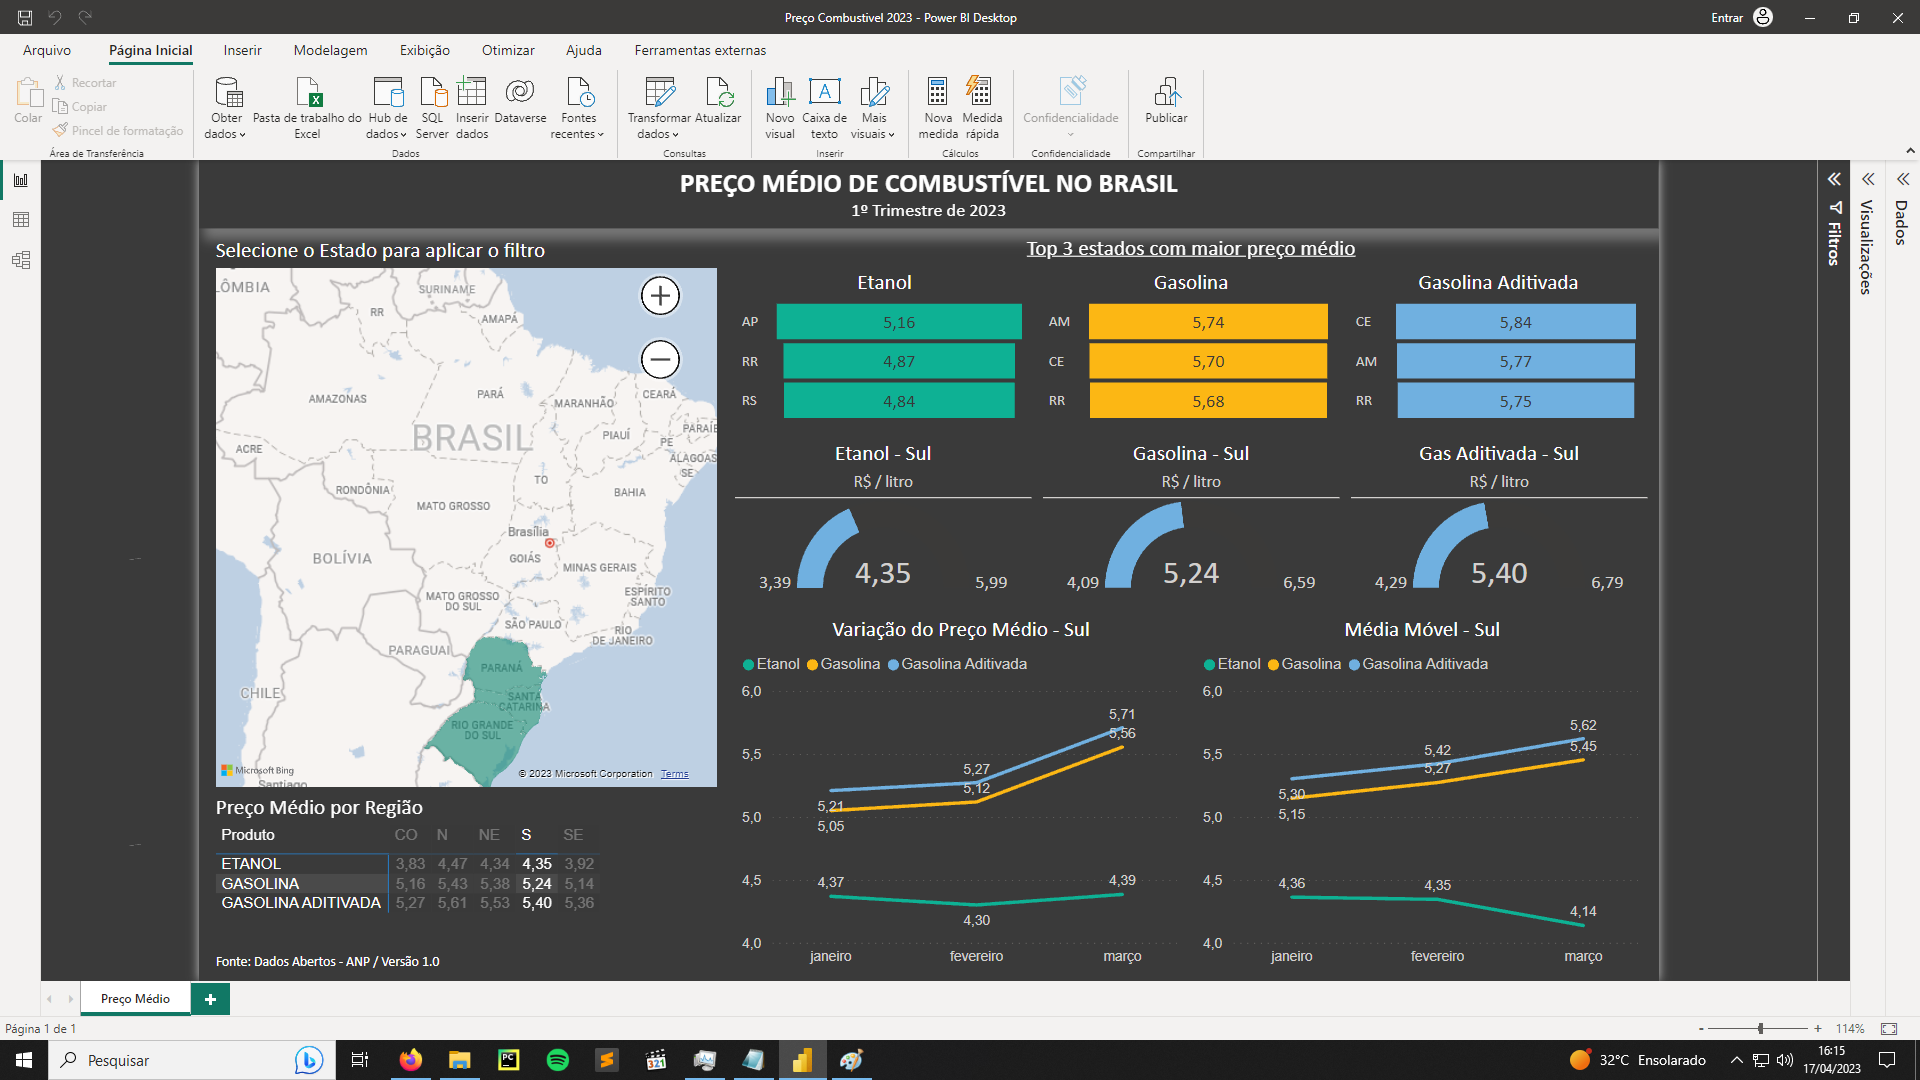

The page's visual inventory and layout, read from the dashboard file:
{"tool":"powerbi","page":{"name":"Preço Médio","canvas":[1280,720],"ordinal":0},"visuals":[{"type":"lineChart","fields":{"Category":["preco_tratado.Data_Coleta.Variation.Hierarquia de datas.Mês","preco_tratado.Data_Coleta.Variation.Hierarquia de datas.Dia"],"Y":["Medidas.MediaNacEtanol","Medidas.MediaNacGasComum","Medidas.MediaNacGasAdit"]},"box":[470.9,395,395,320],"z":0},{"type":"lineChart","fields":{"Y":["Medidas.Média móvel de MediaNacEtanol","Medidas.Média móvel de MediaNacGasComum","Medidas.Média móvel de MediaNacGasAdit"],"Category":["preco_tratado.Data_Coleta.Variation.Hierarquia de datas.Mês","preco_tratado.Data_Coleta.Variation.Hierarquia de datas.Dia"]},"box":[874.9,395,395.1,320],"z":1000},{"type":"filledMap","title":"Selecione o Estado para aplicar o filtro","fields":{"Category":["preco_tratado.Estado"]},"box":[10,65,450,490],"z":2000},{"type":"pivotTable","fields":{"Rows":["preco_tratado.Produto"],"Columns":["preco_tratado.Regiao"],"Values":["Medidas.MediaValorVenda"]},"box":[10,554.7,450,123.7],"z":3000},{"type":"funnel","title":"Gasolina ","fields":{"Category":["TOPMediaGas.Estado"],"Y":["Avg(TOPMediaGas.GAS)"]},"box":[740.2,95,260,140.1],"z":4000},{"type":"textbox","box":[0,0,1280,60],"z":5000},{"type":"funnel","title":"Gasolina Aditivada","fields":{"Category":["TOPMediaGasAdit.Estado"],"Y":["Avg(TOPMediaGasAdit.GAS_ADIT)"]},"box":[1009.6,95,260.7,140.1],"z":6000},{"type":"funnel","title":"Etanol","fields":{"Category":["TOPMediaEtanol.Estado"],"Y":["Avg(TOPMediaEtanol.ETANOL)"]},"box":[470.8,95,260.7,140.1],"z":7000},{"type":"textbox","title":"Top 3 estados com maior preço médio","box":[470.2,65,800.1,30],"z":8000},{"type":"textbox","box":[10,690,225.5,25.9],"z":9000},{"type":"textbox","box":[470,245.1,260,52],"z":10000},{"type":"gauge","fields":{"Y":["Medidas.MediaNacEtanol"],"MinValue":["Medidas.MinMediaNacEtanol"],"MaxValue":["Medidas.MaxMediaNacEtanol"]},"box":[470,297.6,259.7,87.5],"z":11000},{"type":"textbox","box":[740,245,260,52],"z":12000},{"type":"gauge","fields":{"Y":["Medidas.MediaNacGasComum"],"MinValue":["Medidas.MinMediaNacGas"],"MaxValue":["Medidas.MaxMediaNacGas"]},"box":[740,297,259.7,87.5],"z":13000},{"type":"textbox","box":[1010.7,245,260,52],"z":14000},{"type":"gauge","fields":{"Y":["Medidas.MediaNacGasAdit"],"MinValue":["Medidas.MinMediaNacGasAdt"],"MaxValue":["Medidas.MaxMediaNacGasAdt"]},"box":[1010.7,297,259.7,87.5],"z":15000}]}

Visuals, with their boxes on the page's 1280x720 design canvas (x1, y1, x2, y2). These are canvas units, not pixel positions in the 1920x1080 screenshot, which may show the page scaled, cropped or inside an application window:
lineChart - preco_tratado.Data_Coleta.Variation.Hierarquia de datas.Mês x preco_tratado.Data_Coleta.Variation.Hierarquia de datas.Dia: pyautogui.locateOnScreen(471, 395, 866, 715)
lineChart - Medidas.Média móvel de MediaNacEtanol x Medidas.Média móvel de MediaNacGasComum: pyautogui.locateOnScreen(875, 395, 1270, 715)
"Selecione o Estado para aplicar o filtro" filledMap: pyautogui.locateOnScreen(10, 65, 460, 555)
pivotTable - preco_tratado.Produto x preco_tratado.Regiao: pyautogui.locateOnScreen(10, 555, 460, 678)
"Gasolina " funnel: pyautogui.locateOnScreen(740, 95, 1000, 235)
textbox: pyautogui.locateOnScreen(0, 0, 1280, 60)
"Gasolina Aditivada" funnel: pyautogui.locateOnScreen(1010, 95, 1270, 235)
"Etanol" funnel: pyautogui.locateOnScreen(471, 95, 732, 235)
"Top 3 estados com maior preço médio" textbox: pyautogui.locateOnScreen(470, 65, 1270, 95)
textbox: pyautogui.locateOnScreen(10, 690, 236, 716)
textbox: pyautogui.locateOnScreen(470, 245, 730, 297)
gauge - Medidas.MediaNacEtanol x Medidas.MinMediaNacEtanol: pyautogui.locateOnScreen(470, 298, 730, 385)
textbox: pyautogui.locateOnScreen(740, 245, 1000, 297)
gauge - Medidas.MediaNacGasComum x Medidas.MinMediaNacGas: pyautogui.locateOnScreen(740, 297, 1000, 384)
textbox: pyautogui.locateOnScreen(1011, 245, 1271, 297)
gauge - Medidas.MediaNacGasAdit x Medidas.MinMediaNacGasAdt: pyautogui.locateOnScreen(1011, 297, 1270, 384)
